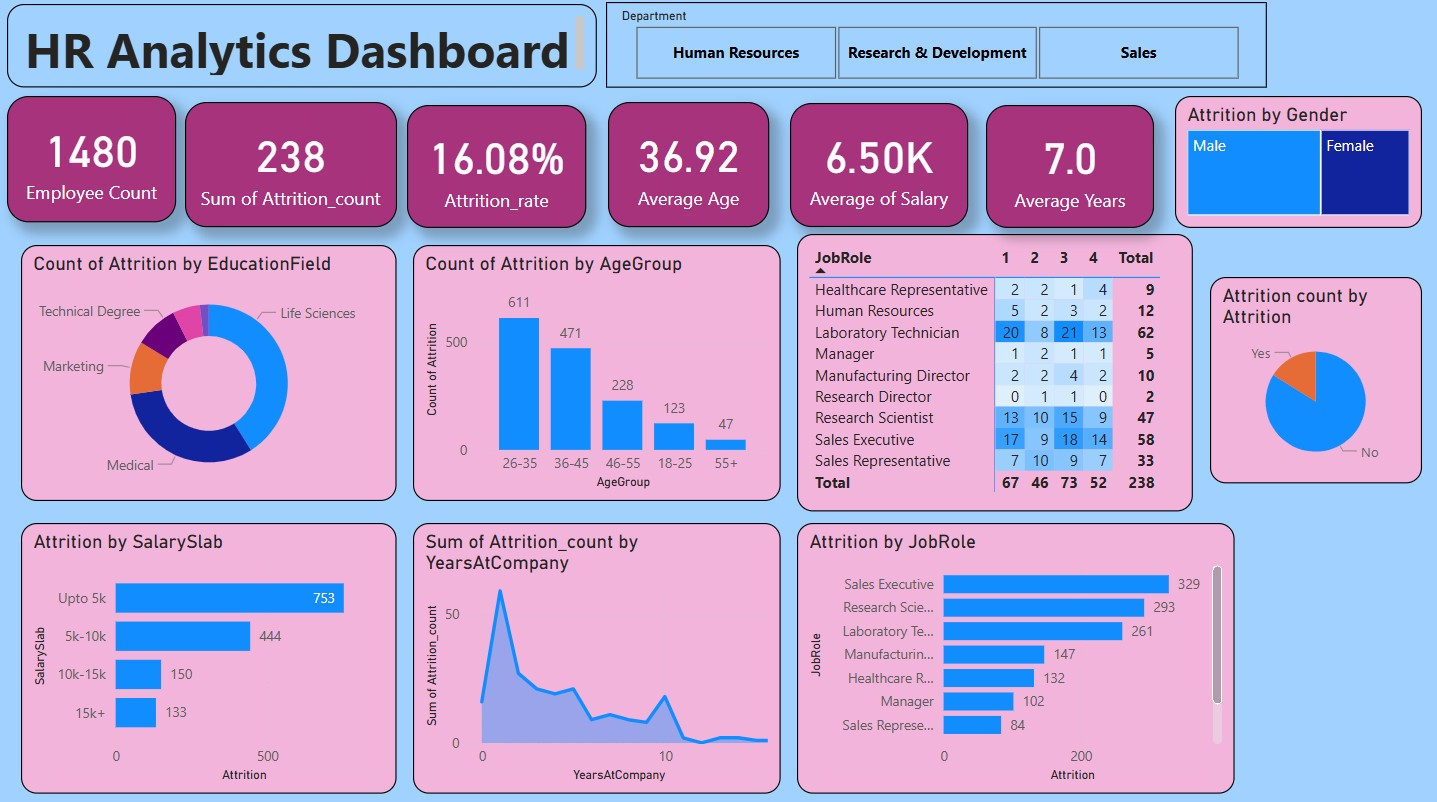

What the dashboard file says about the page in this screenshot:
{"tool":"powerbi","page":{"name":"HR Analytics Dashboard","canvas":[1280,720],"ordinal":0},"visuals":[{"type":"card","fields":{"Values":["Sum(HR_Analytics.EmployeeCount)"]},"box":[0,95.6,150,112.2],"z":0},{"type":"textbox","box":[0,10,523.3,73.3],"z":1000},{"type":"card","fields":{"Values":["Sum(HR_Analytics.Attrition_count)"]},"box":[167.8,96.7,187.8,111.1],"z":2000},{"type":"card","fields":{"Values":["Avg(HR_Analytics.Age)"]},"box":[542.2,96.7,143.3,111.1],"z":3000},{"type":"card","fields":{"Values":["Avg(HR_Analytics.MonthlyIncome)"]},"box":[704.4,97.8,157.8,110],"z":4000},{"type":"donutChart","fields":{"Y":["CountNonNull(HR_Analytics.Attrition)"],"Category":["HR_Analytics.EducationField"]},"box":[22.2,223.3,333.3,226.7],"z":5000},{"type":"columnChart","fields":{"Category":["HR_Analytics.AgeGroup"],"Y":["CountNonNull(HR_Analytics.Attrition)"]},"box":[370,223.3,325.6,226.7],"z":6000},{"type":"pieChart","fields":{"Category":["HR_Analytics.Attrition"],"Y":["CountNonNull(HR_Analytics.Attrition)"]},"box":[1076.7,252.2,187.8,183.3],"z":7000},{"type":"pivotTable","fields":{"Values":["Sum(HR_Analytics.Attrition_count)"],"Rows":["HR_Analytics.JobRole"],"Columns":["HR_Analytics.JobSatisfaction"]},"box":[710,213.3,351.1,245.6],"z":8000},{"type":"clusteredBarChart","fields":{"Category":["HR_Analytics.SalarySlab"],"Y":["CountNonNull(HR_Analytics.Attrition)"]},"box":[22.2,470,333.3,240],"z":9000},{"type":"lineChart","fields":{"Y":["Sum(HR_Analytics.Attrition_count)"],"Category":["HR_Analytics.YearsAtCompany"]},"box":[370,470,325.6,240],"z":10000},{"type":"clusteredBarChart","fields":{"Category":["HR_Analytics.JobRole"],"Y":["CountNonNull(HR_Analytics.Attrition)"]},"box":[710,470,387.8,240],"z":11000},{"type":"slicer","fields":{"Values":["HR_Analytics.Department"]},"box":[541.1,7.8,585.6,75.6],"z":12000},{"type":"card","fields":{"Values":["Avg(HR_Analytics.YearsAtCompany)"]},"box":[877.8,98.9,148.9,108.9],"z":13000},{"type":"treemap","fields":{"Group":["HR_Analytics.Gender"],"Values":["CountNonNull(HR_Analytics.Attrition)"]},"box":[1045.6,91.1,218.9,116.7],"z":14000},{"type":"card","fields":{"Values":["HR_Analytics.Attrition_rate"]},"box":[364.4,98.9,158.9,108.9],"z":15000}]}

Visuals, with their boxes in screenshot pixels (x1, y1, x2, y2), scaled from the page's 1280x720 canvas onto the 1437x802 screenshot:
card - Sum(HR_Analytics.EmployeeCount): locate(0, 106, 168, 231)
textbox: locate(0, 11, 587, 93)
card - Sum(HR_Analytics.Attrition_count): locate(188, 108, 399, 231)
card - Avg(HR_Analytics.Age): locate(609, 108, 770, 231)
card - Avg(HR_Analytics.MonthlyIncome): locate(791, 109, 968, 231)
donutChart - CountNonNull(HR_Analytics.Attrition) x HR_Analytics.EducationField: locate(25, 249, 399, 501)
columnChart - HR_Analytics.AgeGroup x CountNonNull(HR_Analytics.Attrition): locate(415, 249, 781, 501)
pieChart - HR_Analytics.Attrition x CountNonNull(HR_Analytics.Attrition): locate(1209, 281, 1420, 485)
pivotTable - Sum(HR_Analytics.Attrition_count) x HR_Analytics.JobRole: locate(797, 238, 1191, 511)
clusteredBarChart - HR_Analytics.SalarySlab x CountNonNull(HR_Analytics.Attrition): locate(25, 524, 399, 791)
lineChart - Sum(HR_Analytics.Attrition_count) x HR_Analytics.YearsAtCompany: locate(415, 524, 781, 791)
clusteredBarChart - HR_Analytics.JobRole x CountNonNull(HR_Analytics.Attrition): locate(797, 524, 1232, 791)
slicer - HR_Analytics.Department: locate(607, 9, 1265, 93)
card - Avg(HR_Analytics.YearsAtCompany): locate(985, 110, 1153, 231)
treemap - HR_Analytics.Gender x CountNonNull(HR_Analytics.Attrition): locate(1174, 101, 1420, 231)
card - HR_Analytics.Attrition_rate: locate(409, 110, 587, 231)
